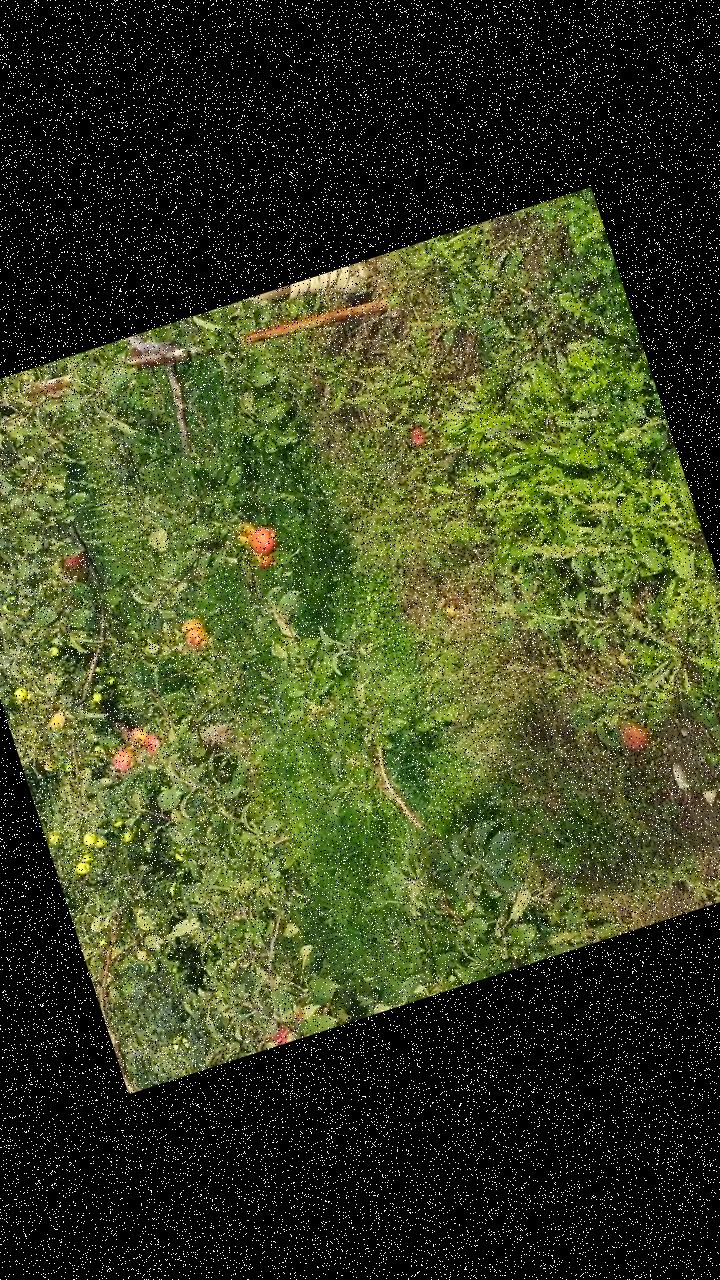Apple: (246, 522, 279, 556), (230, 516, 260, 551), (179, 622, 211, 652), (108, 745, 137, 773), (248, 544, 276, 572), (176, 613, 206, 635), (140, 729, 160, 754), (126, 726, 148, 746), (271, 1024, 292, 1044), (62, 554, 84, 572)
